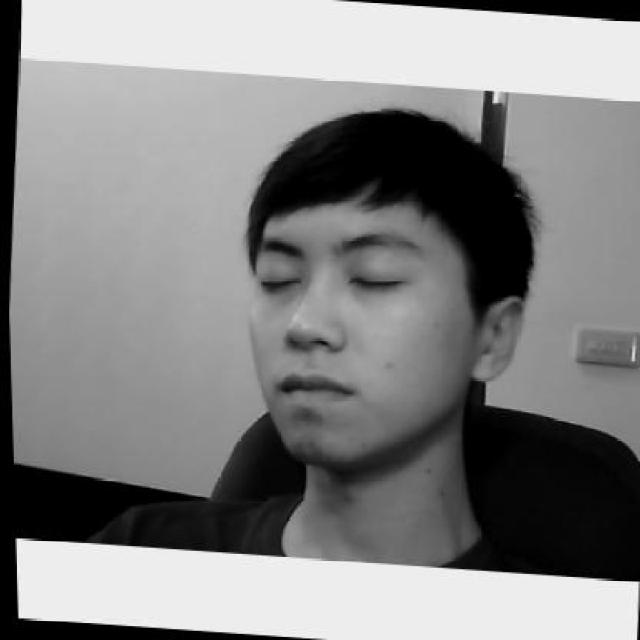inattentif: (225, 99, 541, 475)
